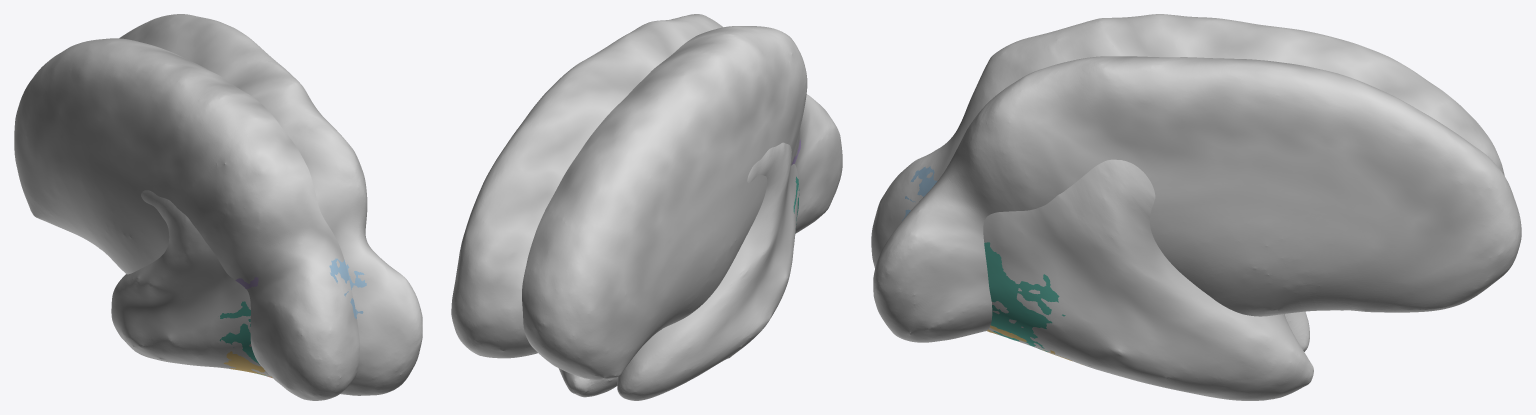
The model's file is subj01_froi.glb.
3 views of the same model, side by side, from view 1: azimuth 30°, elevation 25°; view 2: azimuth 150°, elevation 25°; view 3: azimuth 270°, elevation 25° (orthographic). The views are drawn at different scales.
Parts seen in each view (by area): view 1: base_rh, base_lh, roi_lh_EBA, roi_lh_VWFA, roi_rh_OPA; view 2: base_rh, base_lh; view 3: base_lh, base_rh, roi_rh_EBA.
Part boxes in pixels (box(x1,y1,x2,y2)): base_rh: box(14, 38, 359, 400); base_lh: box(111, 14, 422, 395); roi_lh_EBA: box(219, 301, 259, 364); roi_lh_VWFA: box(223, 351, 272, 377); roi_rh_OPA: box(329, 258, 356, 318); base_rh: box(522, 26, 842, 397); base_lh: box(451, 14, 798, 400); base_lh: box(873, 56, 1521, 351); base_rh: box(871, 14, 1504, 400); roi_rh_EBA: box(984, 242, 1065, 351).
Size of the model in its own units: 100 by 164 by 279.
